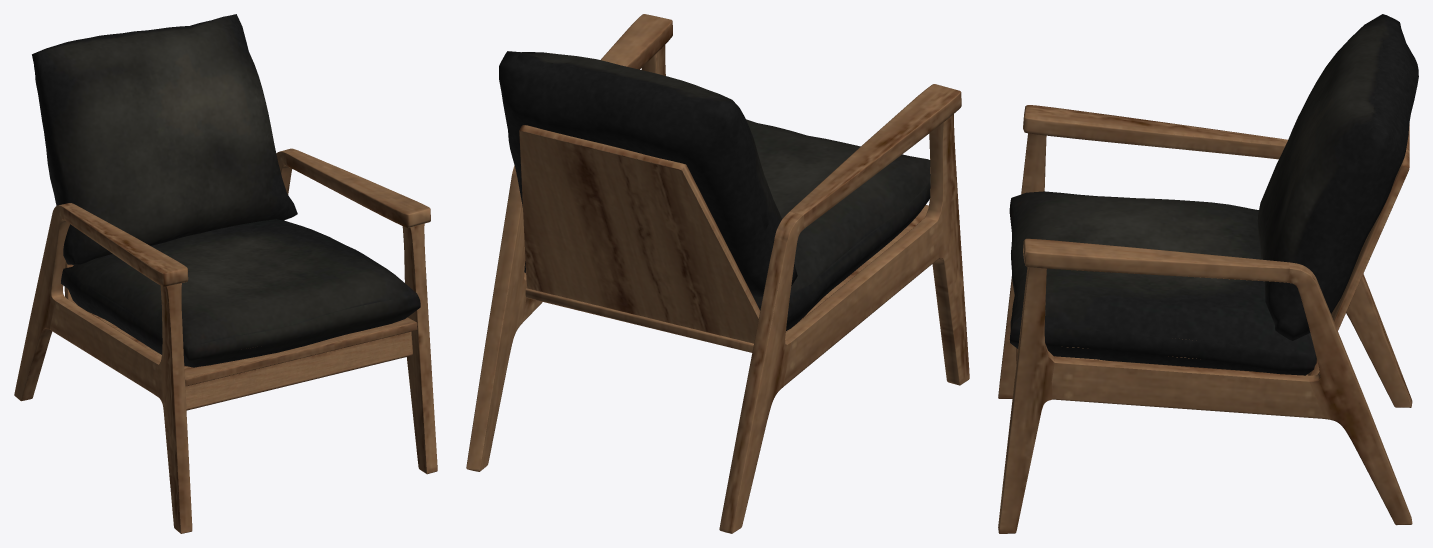
File: fu_armchair_leather.fbx
3 views of the same model, side by side, from view 1: azimuth 30°, elevation 25°; view 2: azimuth 150°, elevation 25°; view 3: azimuth 270°, elevation 25° (orthographic). The views are drawn at different scales.
Visible parts, largest first — view 1: fu_armchair_leather_LOD0; view 2: fu_armchair_leather_LOD0; view 3: fu_armchair_leather_LOD0.
Boxes of the visible parts, left/top/right/bottom form: fu_armchair_leather_LOD0: left=14, top=14, right=437, bottom=533; fu_armchair_leather_LOD0: left=466, top=14, right=969, bottom=533; fu_armchair_leather_LOD0: left=998, top=14, right=1418, bottom=533.
Size of what is drawn, in the model's own units: 0.8203 by 1.02 by 0.9867.
